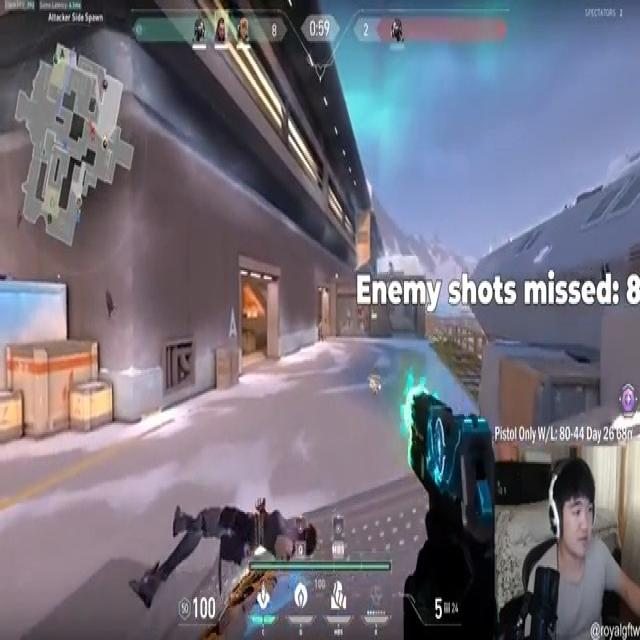enemy: (318, 321, 323, 341)
